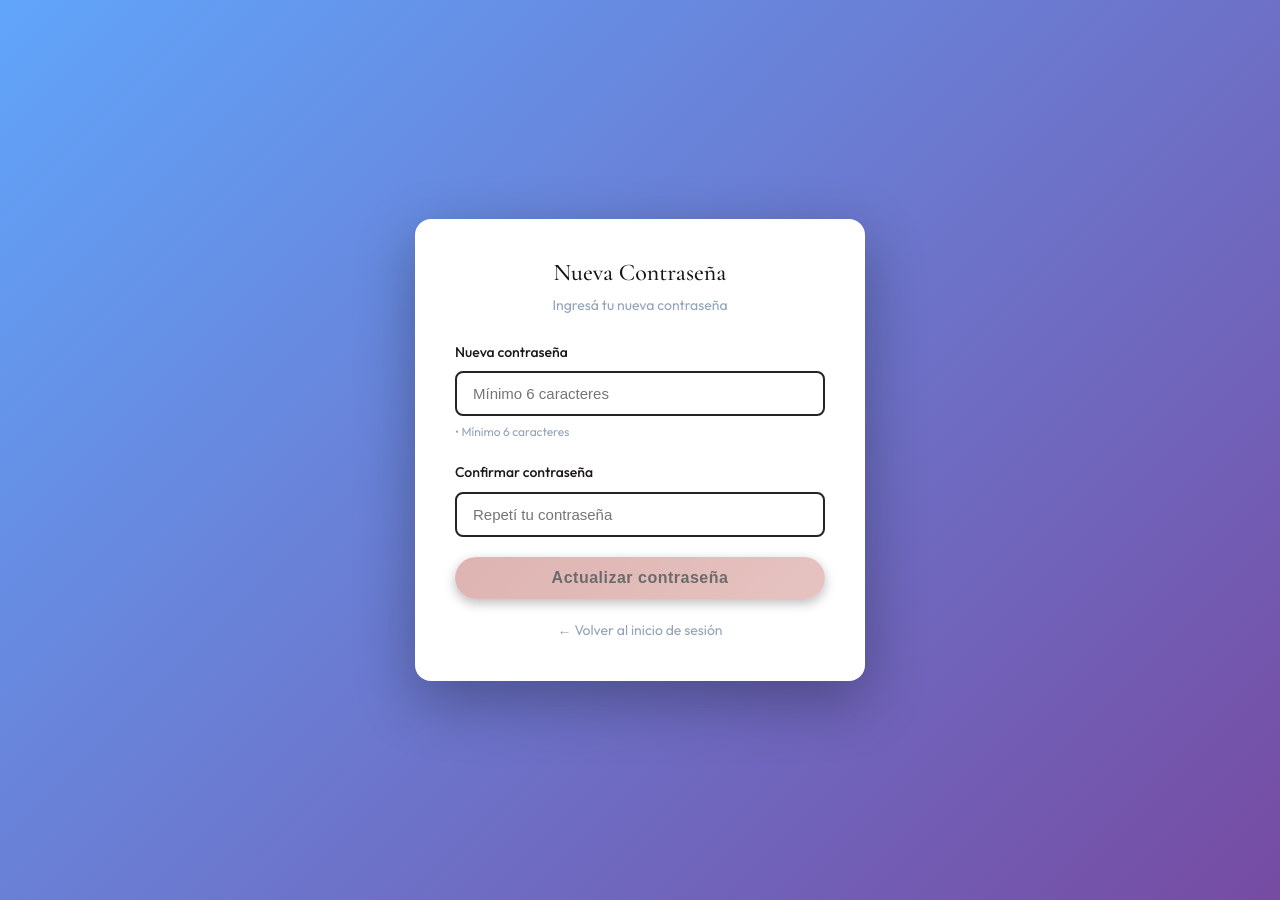
Test: ResetPassword › shows error on API failure
In the password field with placeholder "Mínimo 6 caracteres": (640, 394) [455,371,825,416], type "newpass123"
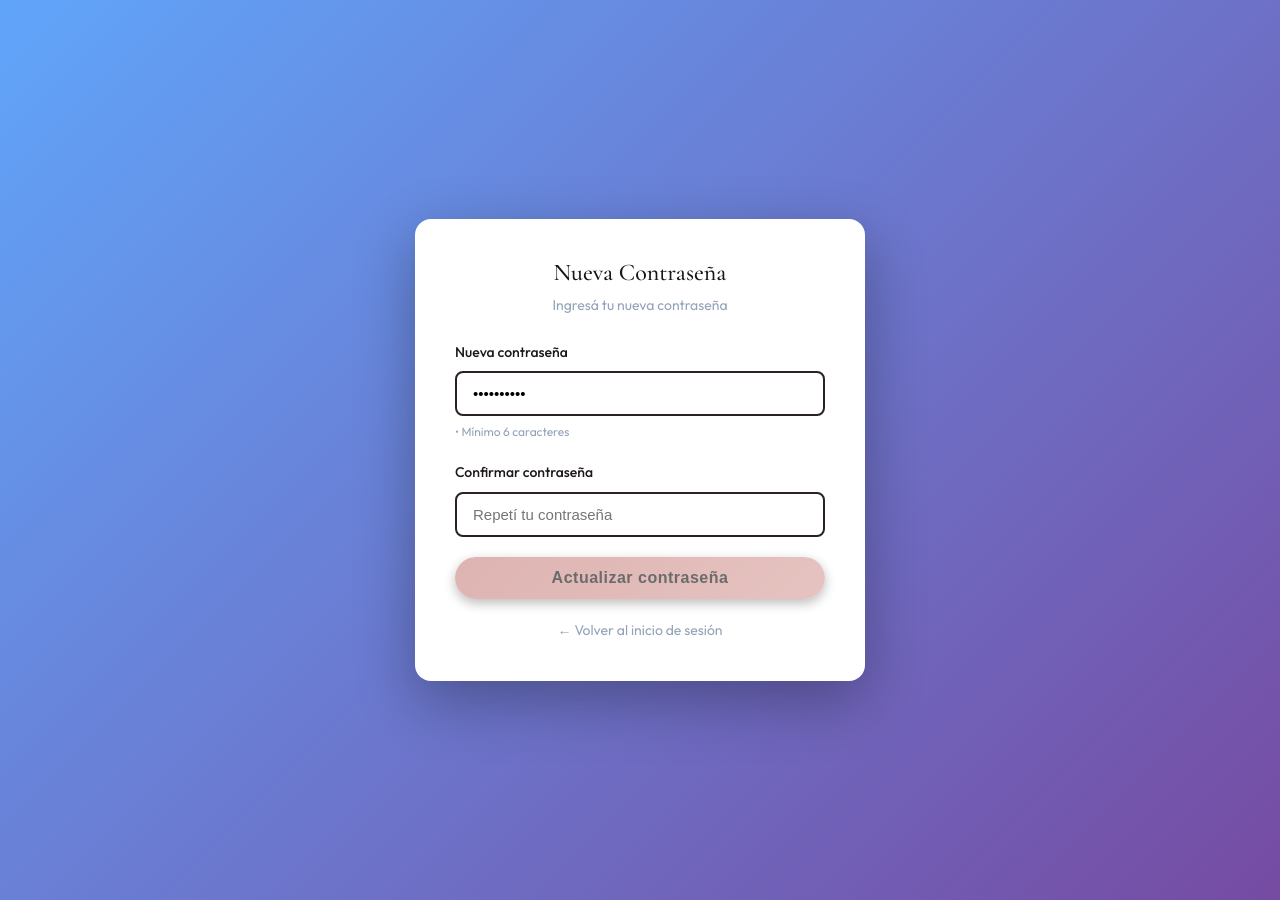
In the password field with placeholder "Repetí tu contraseña": (640, 514) [455,492,825,537], type "newpass123"
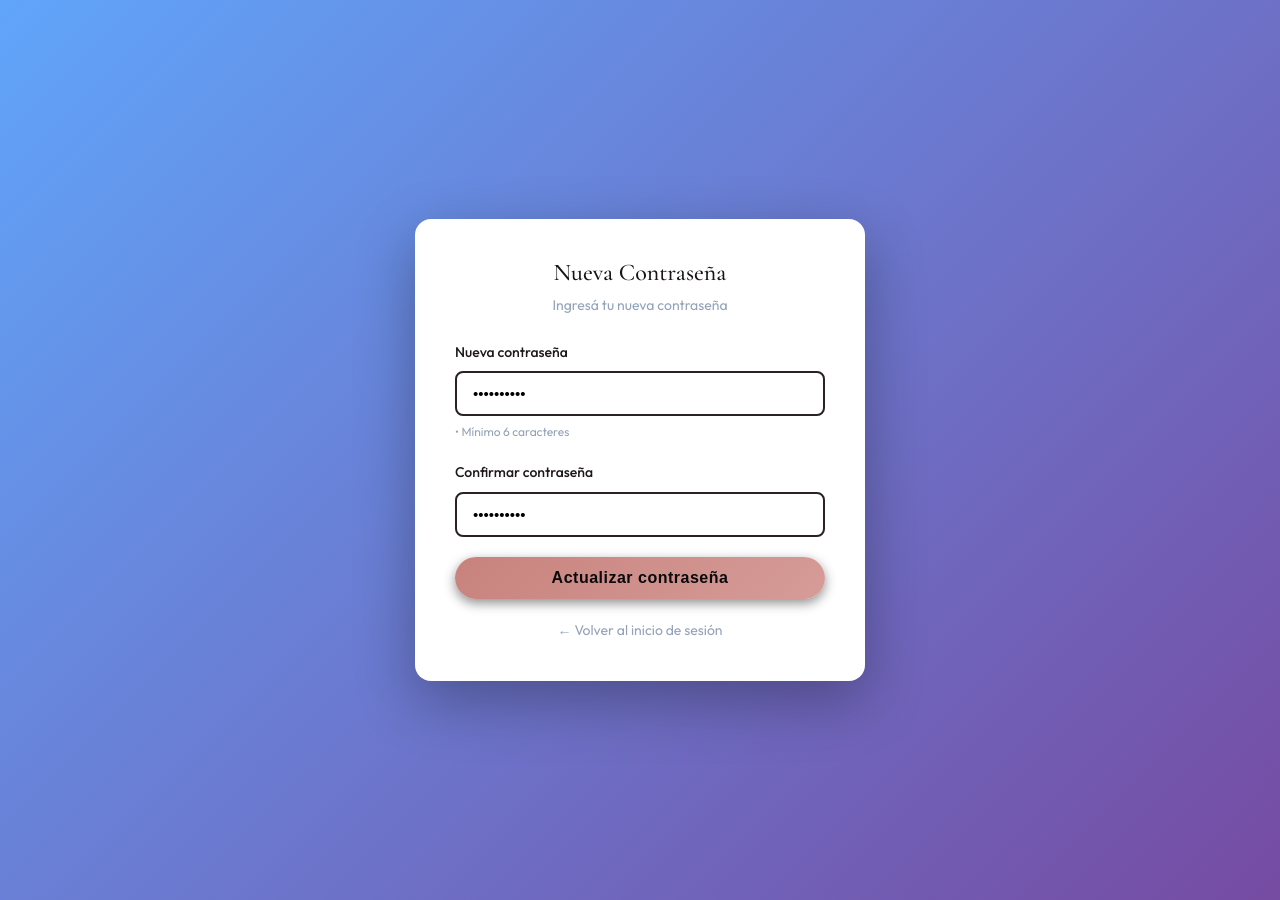
Click the button "Actualizar contraseña": click(640, 578) [455,557,825,599]
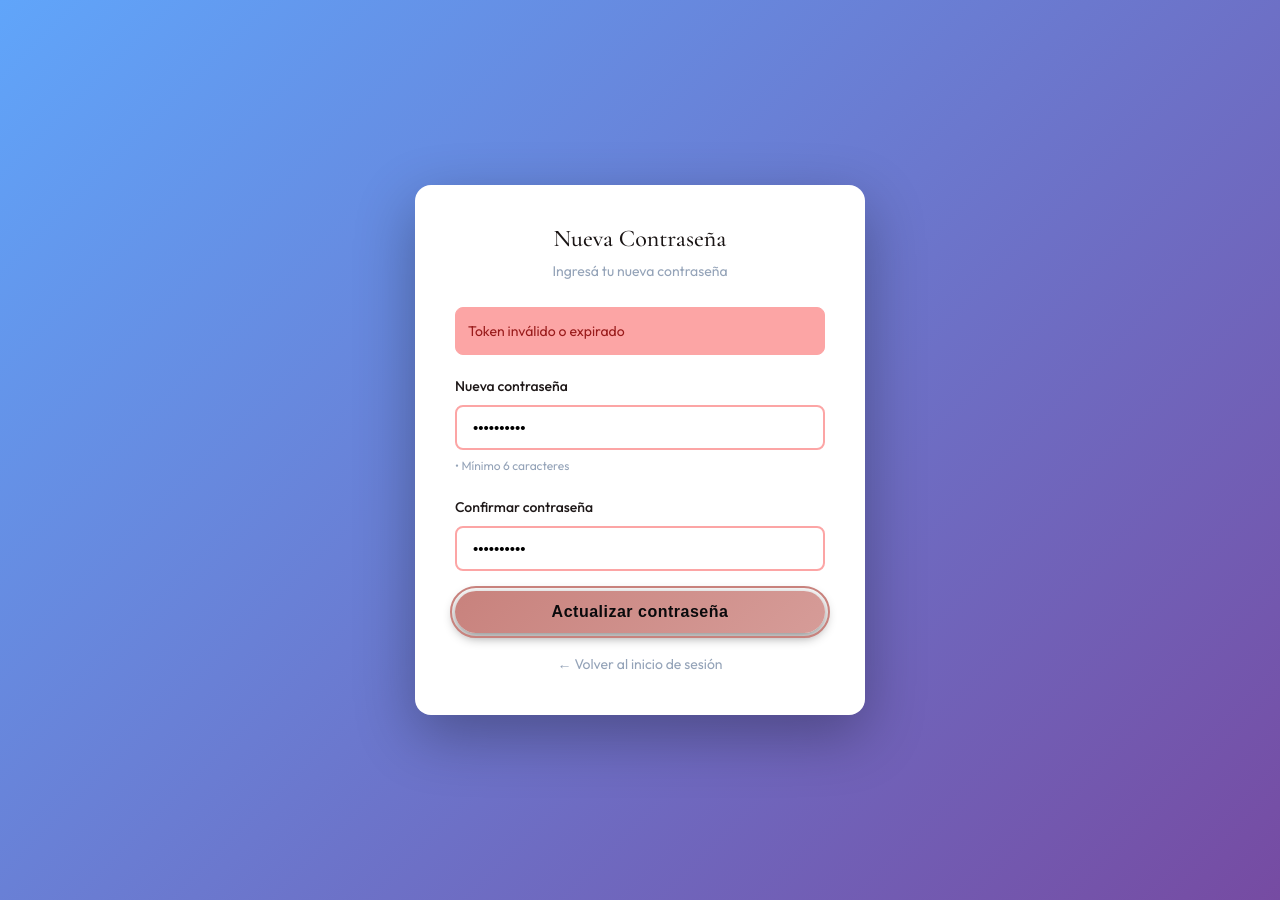
Expected: the text "Token inválido o expirado" is shown, [455,307,825,355]
